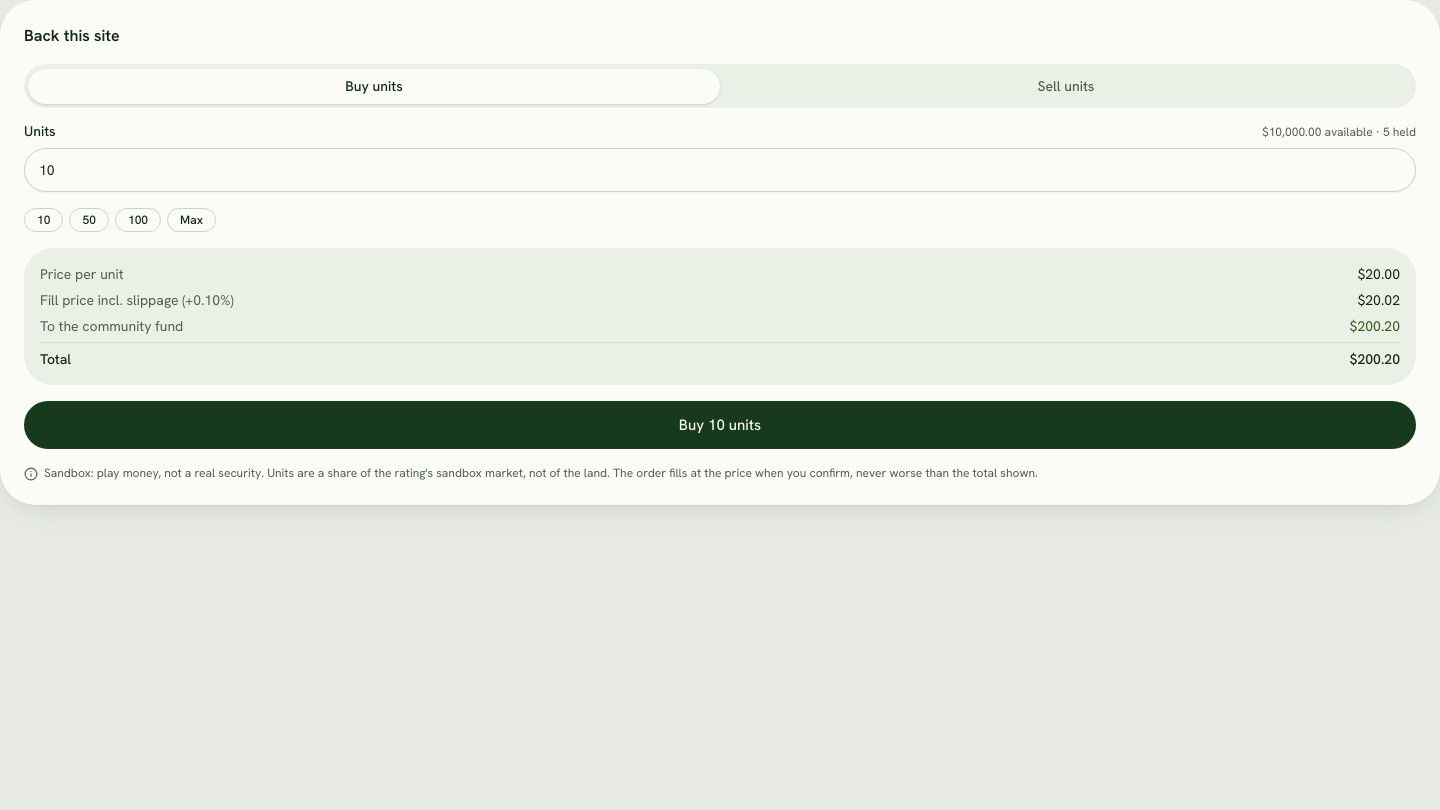
Test: TradePanel › sends the quoted proceeds as the floor of a sell
Press the mouse on the tab "Sell units" at {"x": 1066, "y": 86}, box top-left (720, 68), bottom-right (1412, 104)
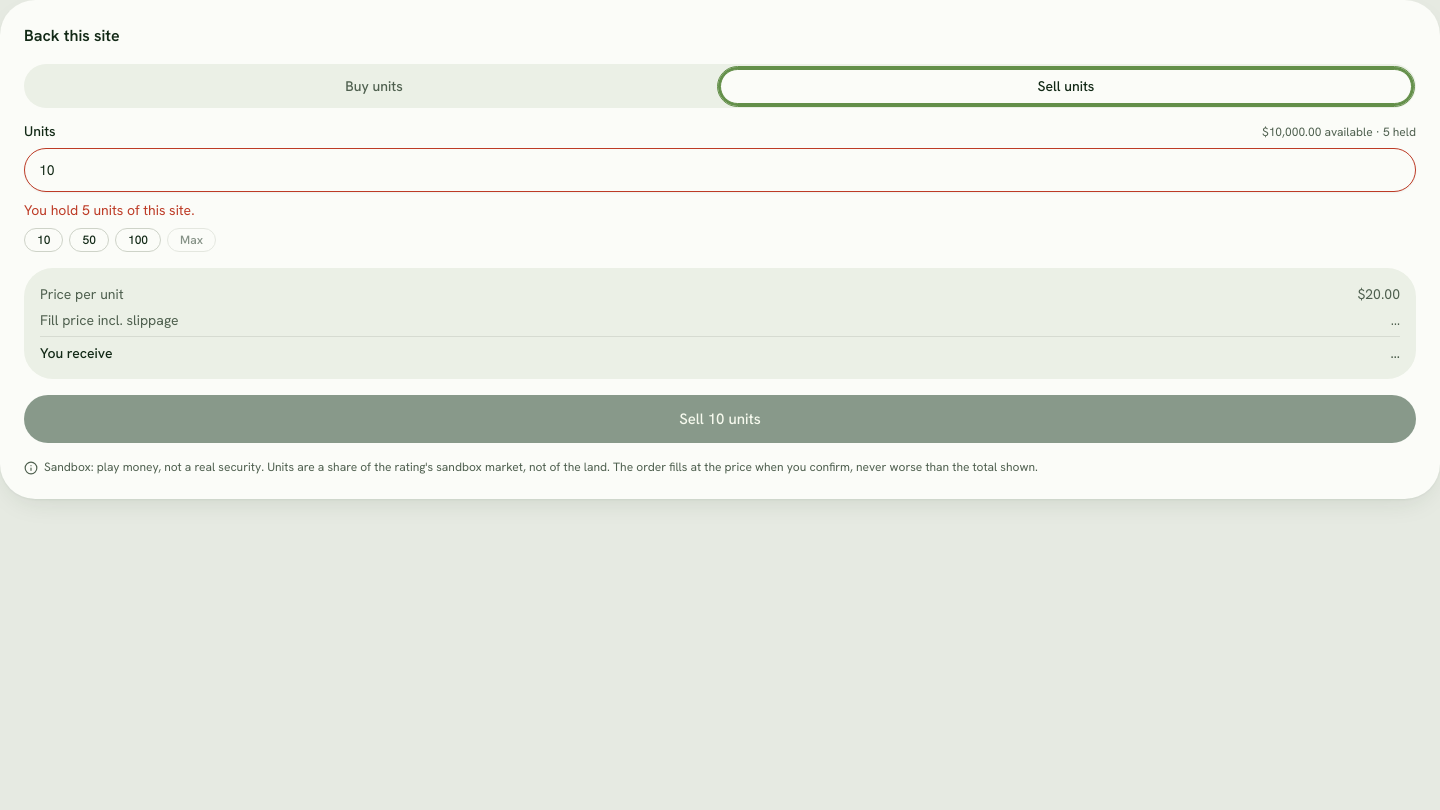
Replace the text in the field labelled "Units" with "5" at {"x": 720, "y": 170}, box top-left (24, 148), bottom-right (1416, 192)
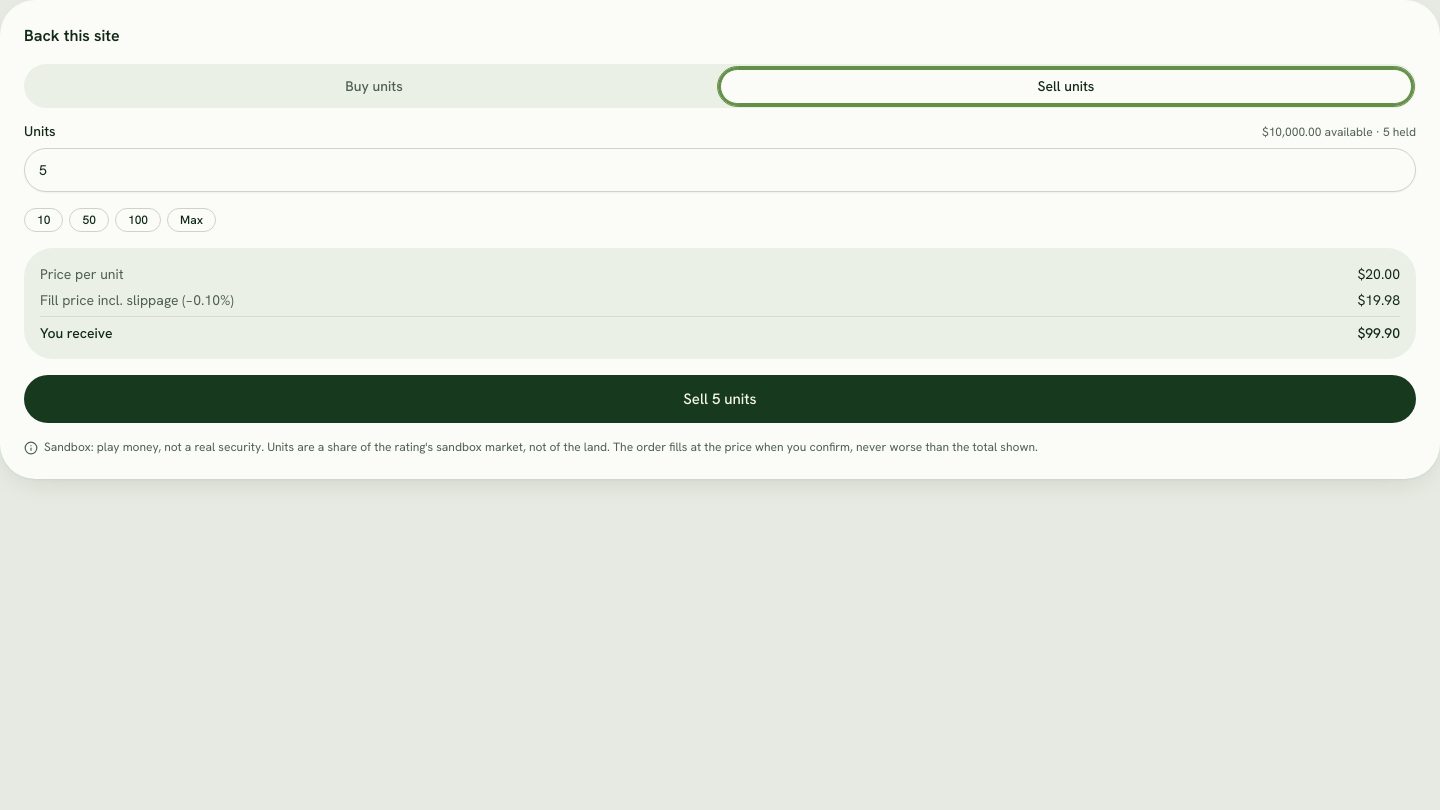
Now the button "Sell 5 units" does not have attribute aria-disabled
Click the button "Sell 5 units" at {"x": 720, "y": 399}, box top-left (24, 375), bottom-right (1416, 423)
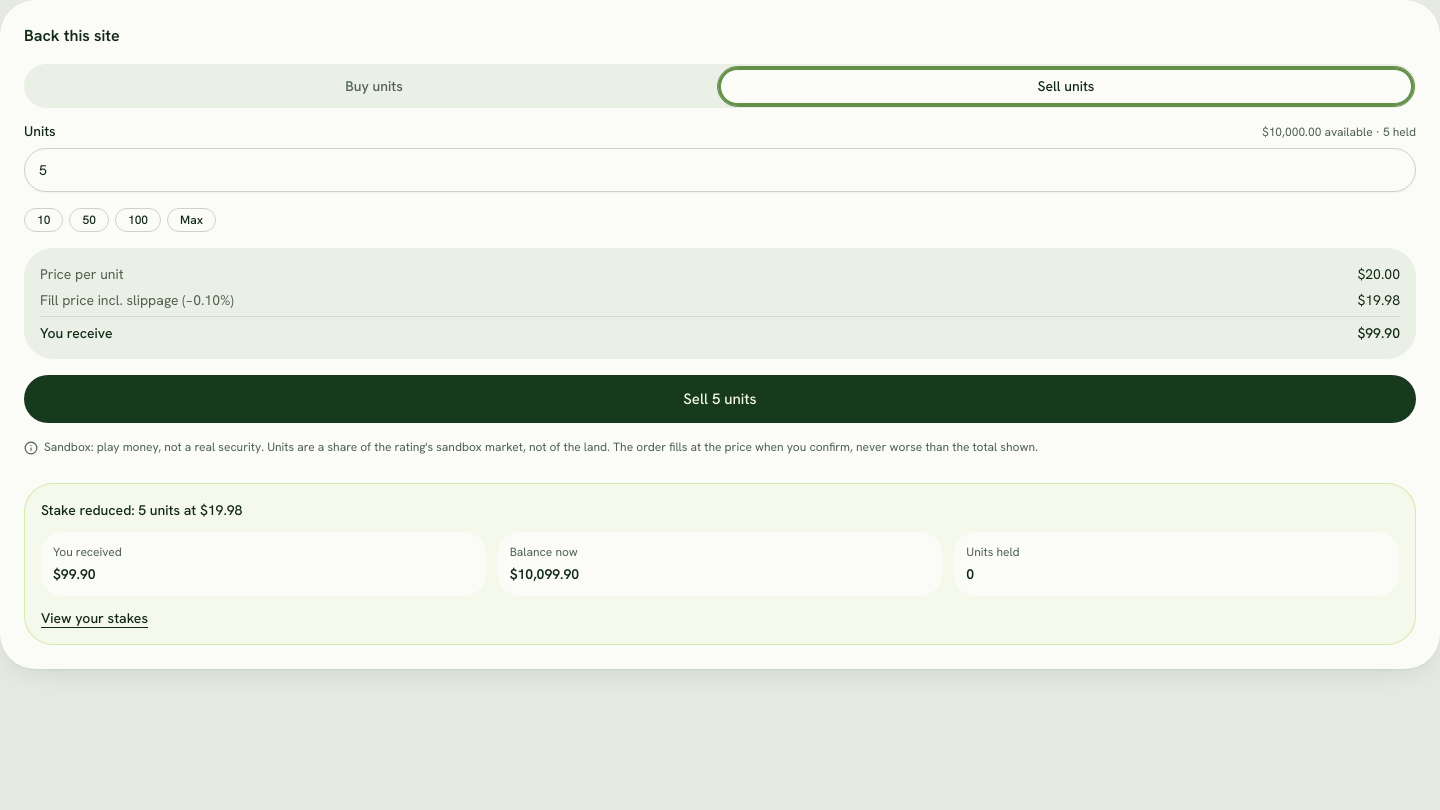
Now the text "Stake reduced: 5 units at $19.98" is shown, box top-left (41, 501), bottom-right (242, 519)
